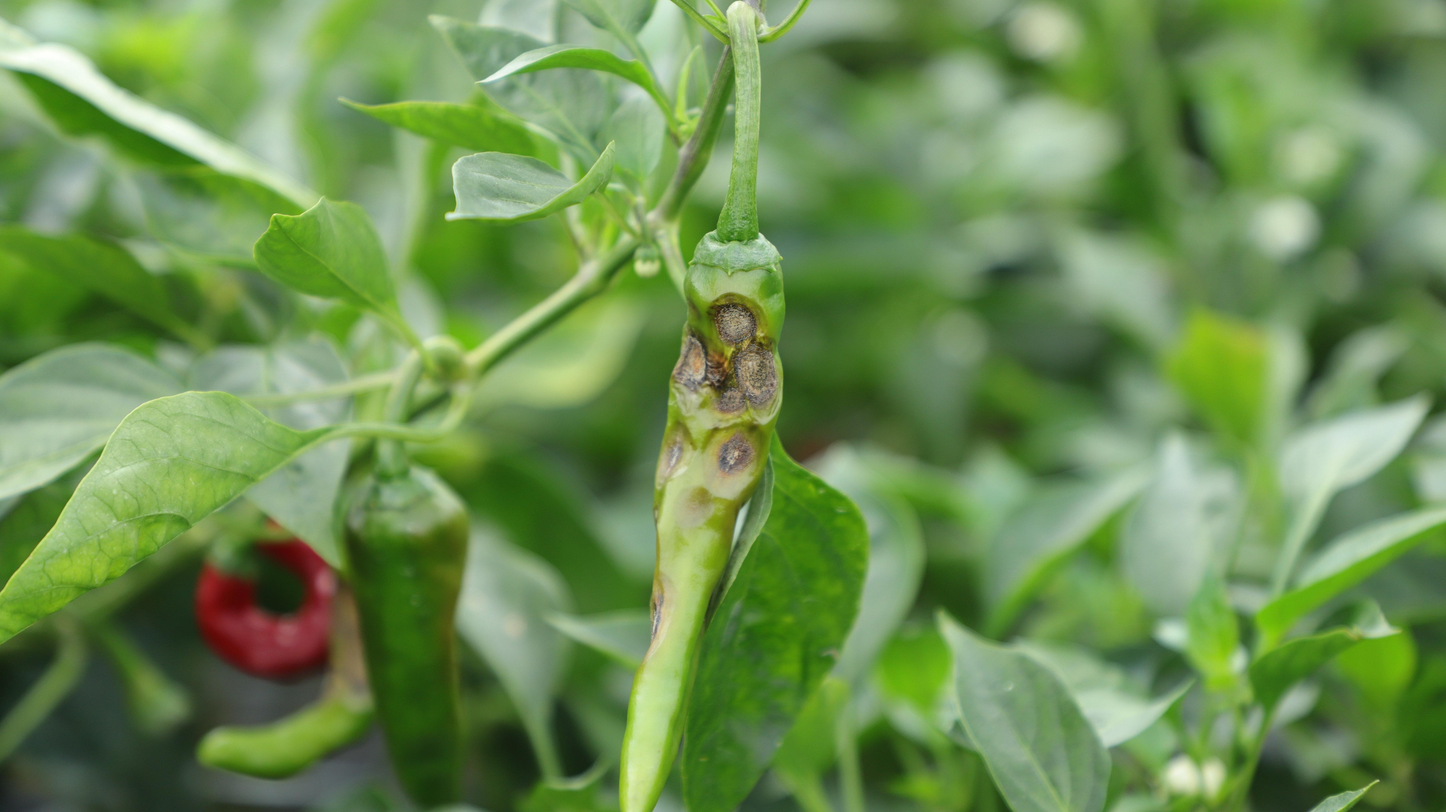Buah Cabai Sehat: (343, 467, 484, 812)
Busuk Buah Antraknosa: (608, 223, 796, 812)
Daun Cabai Sehat: (0, 383, 329, 668), (681, 455, 870, 812)
